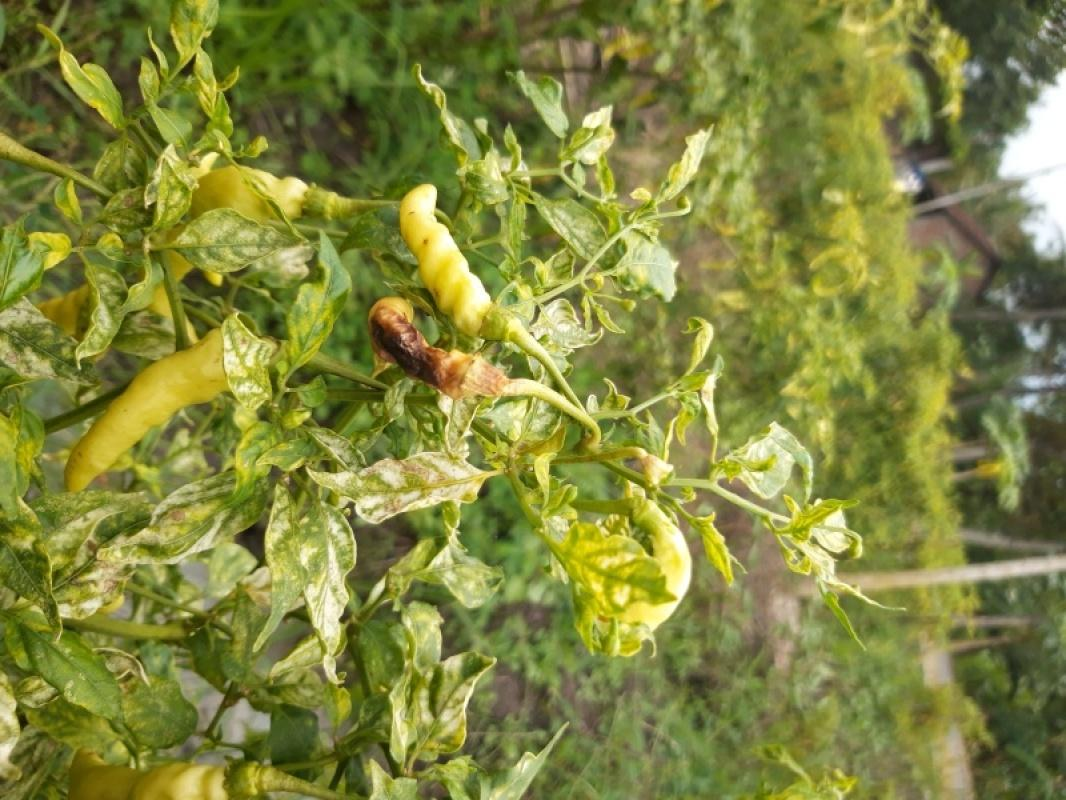antraknosa: (366, 295, 514, 402)
cabai_normal: (62, 329, 225, 498), (167, 164, 305, 297), (397, 183, 495, 337), (68, 742, 227, 800)
